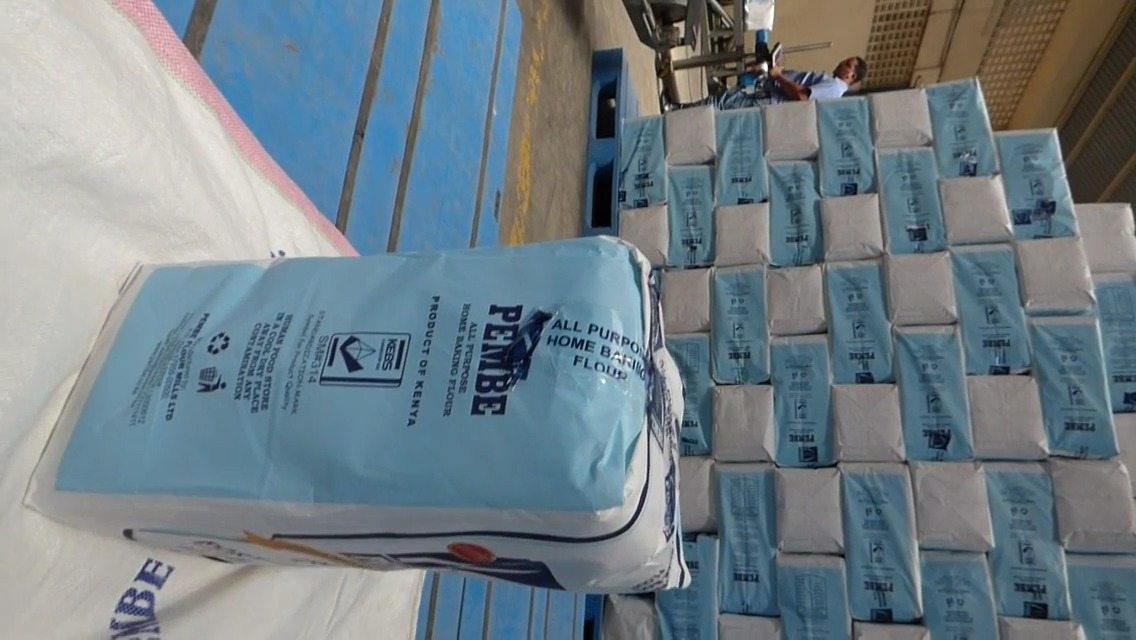wheat_flour_blue_label: (25, 241, 687, 602)
